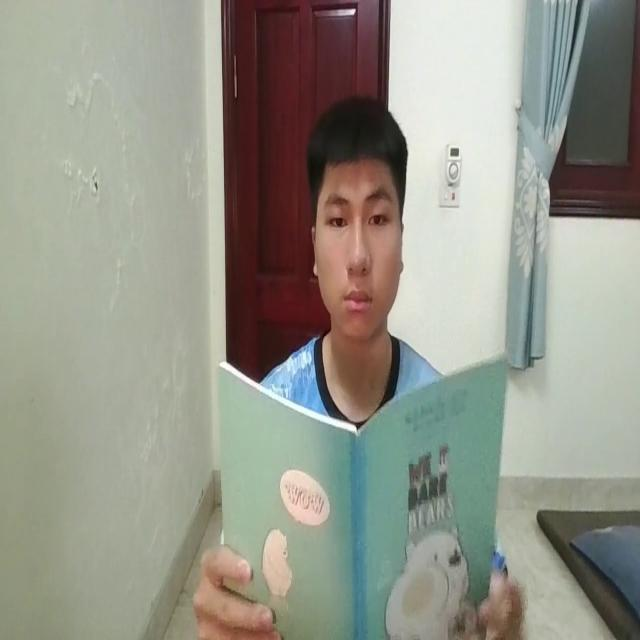book: (213, 354, 512, 640)
student: (258, 91, 443, 406)
